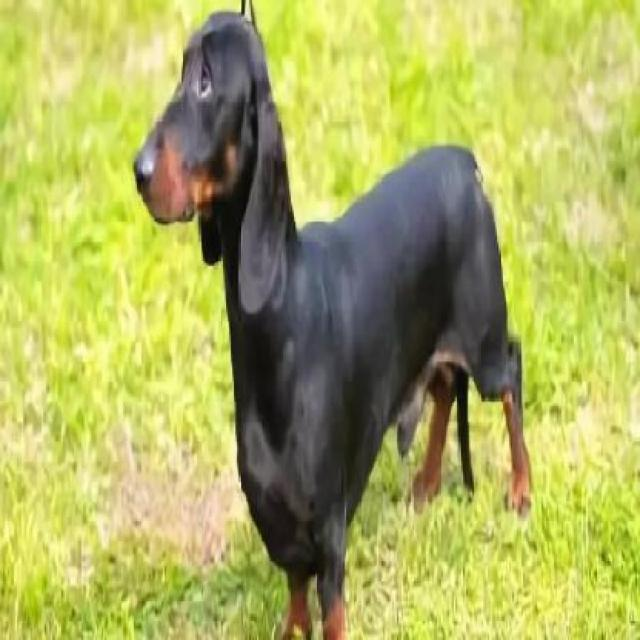Dog: (131, 9, 535, 636)
